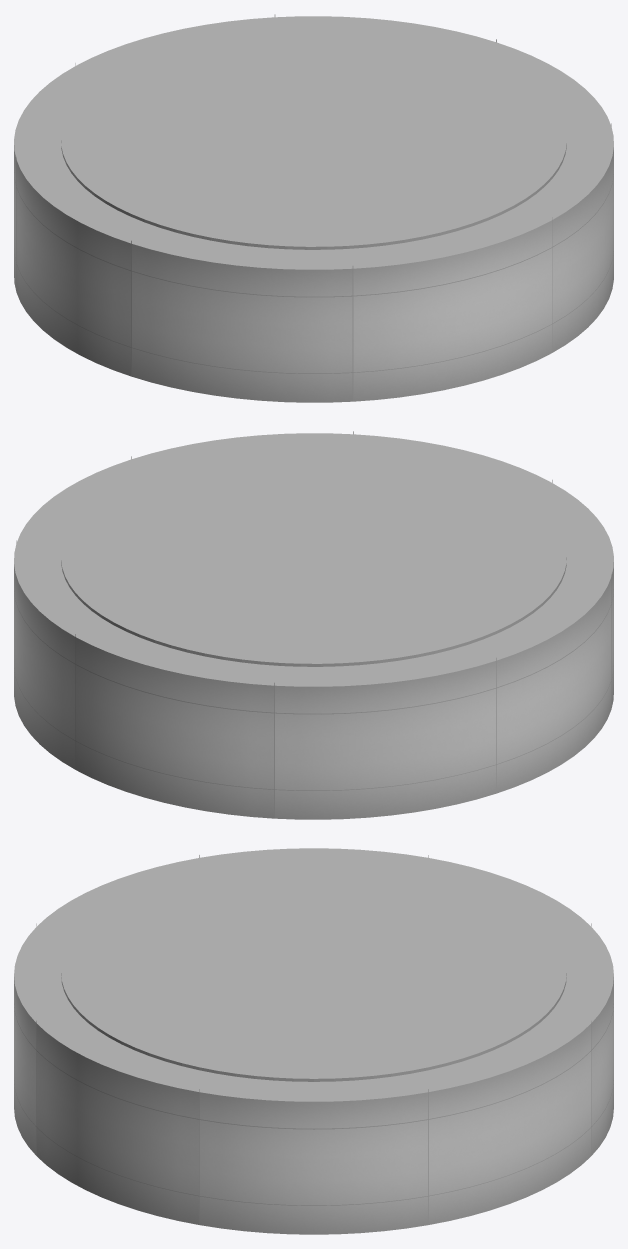
File: Gallery2.glb
3 views of the same model, one above another, from view 1: azimuth 30°, elevation 25°; view 2: azimuth 150°, elevation 25°; view 3: azimuth 270°, elevation 25° (orthographic).
Visible parts, largest first — view 1: polySurface31, polySurface29, polySurface19; view 2: polySurface31, polySurface29, polySurface19; view 3: polySurface31, polySurface29, polySurface19.
Boxes of the visible parts, x1,y1,x2,y2 form: polySurface31: [14, 16, 613, 269]; polySurface29: [14, 145, 613, 402]; polySurface19: [14, 14, 613, 401]; polySurface31: [14, 433, 613, 686]; polySurface29: [14, 562, 613, 819]; polySurface19: [14, 431, 613, 818]; polySurface31: [14, 848, 613, 1101]; polySurface29: [14, 977, 613, 1234]; polySurface19: [14, 855, 613, 1224].
Bounding box in the file's own units: 1 × 0.25 × 1.
Materials: 5 (1 with a texture image).
